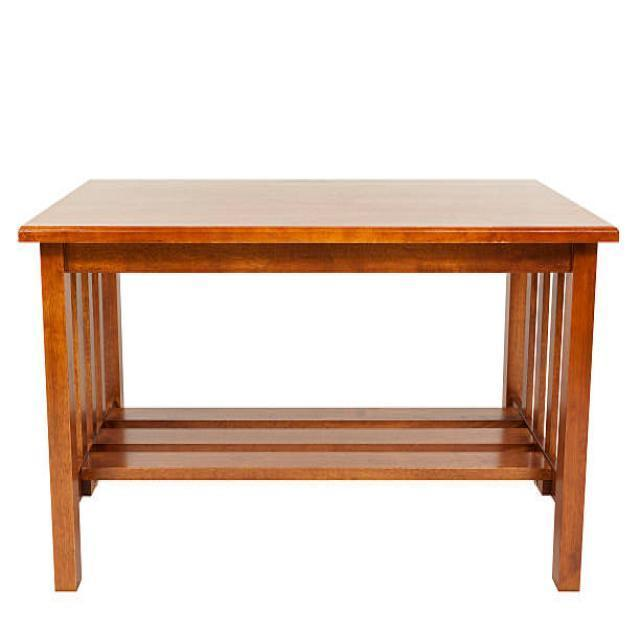table: (17, 176, 620, 594)
